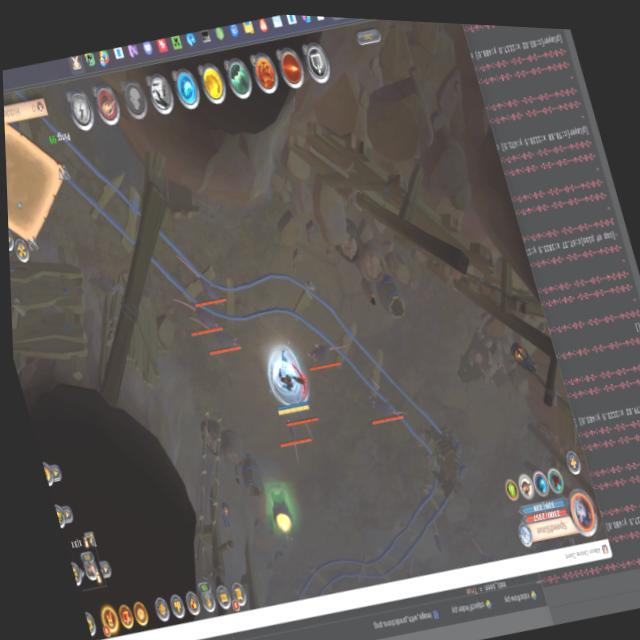fiber: (258, 482, 302, 543)
ore: (170, 242, 231, 317), (166, 280, 231, 348), (269, 405, 317, 470), (359, 379, 414, 434), (282, 383, 327, 448), (194, 309, 245, 366), (298, 332, 360, 378), (421, 510, 451, 562), (467, 533, 493, 568), (398, 553, 423, 583)
red: (257, 343, 313, 416)
